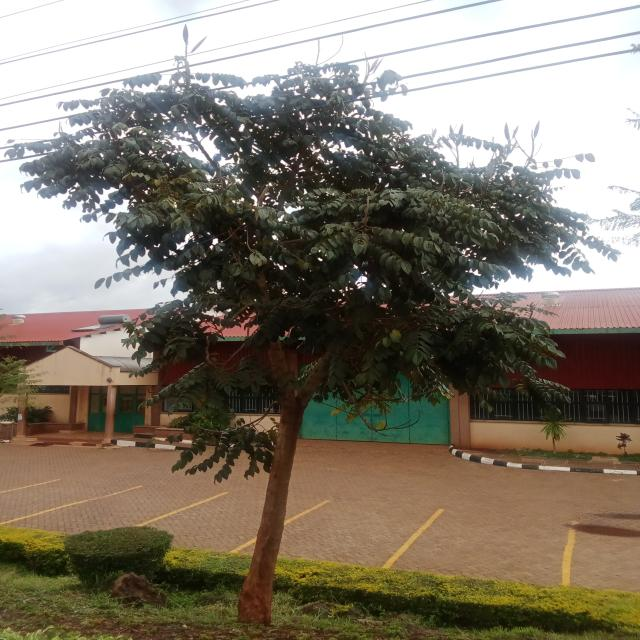Polyscias Kikuyensis: (26, 45, 633, 520)
